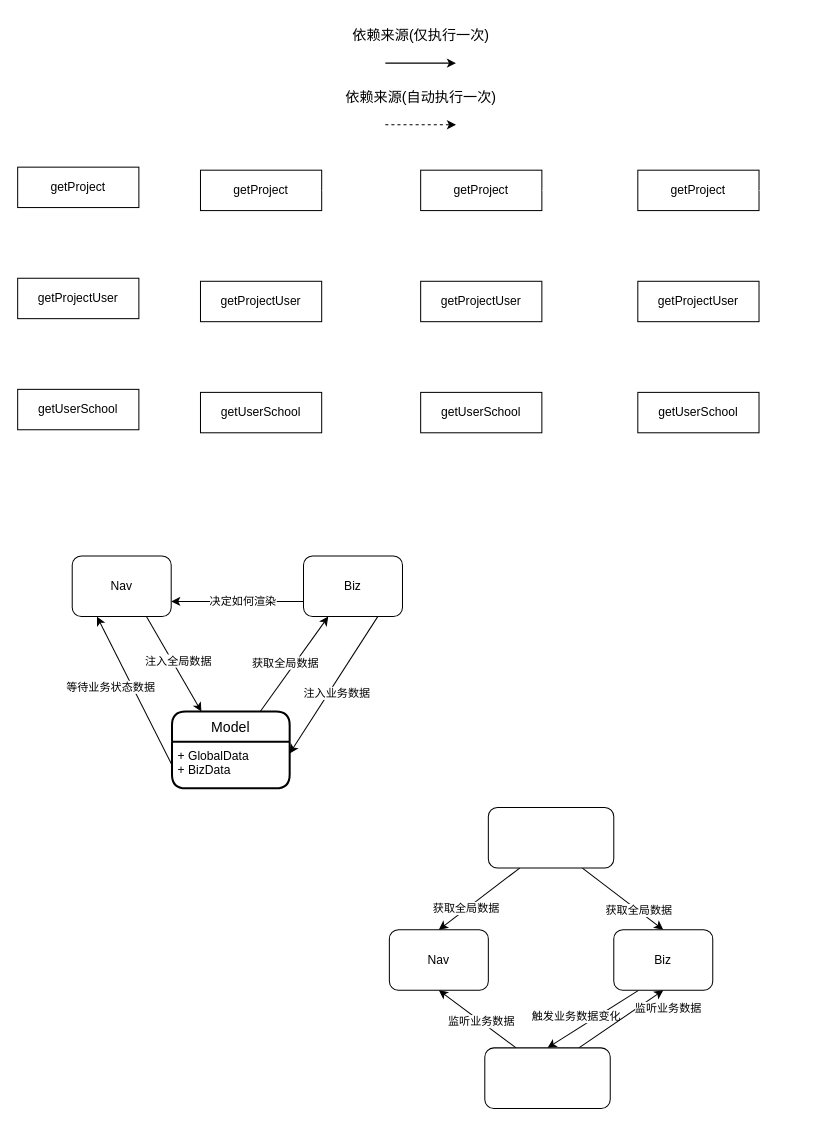
This 833x1126 diagram has some shape labels left out. The centre of each missing label's shape, as x and y in pixels:
"BizDataModel" goes at (x=547, y=1077).
"GlobalDataModel" goes at (x=550, y=837).
